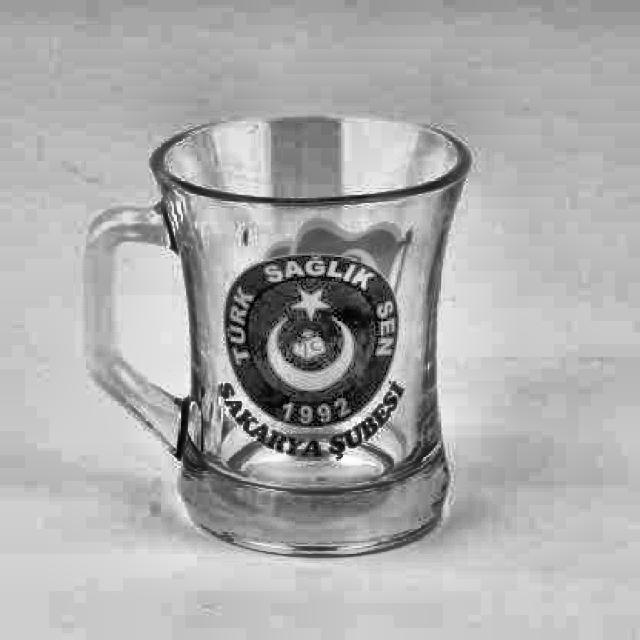Mug: (80, 113, 472, 559)
